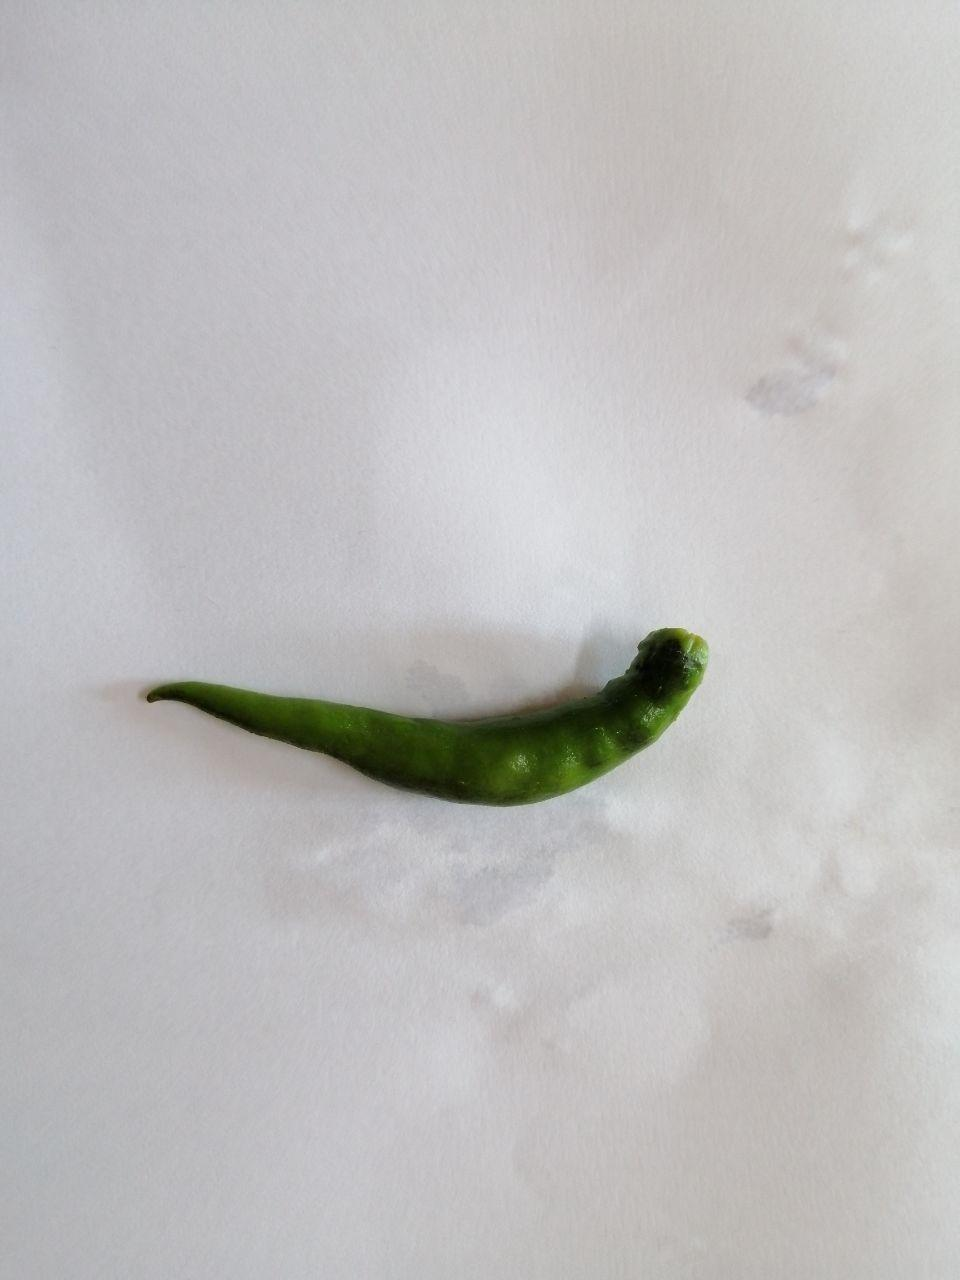lada hijau: (130, 590, 759, 851)
